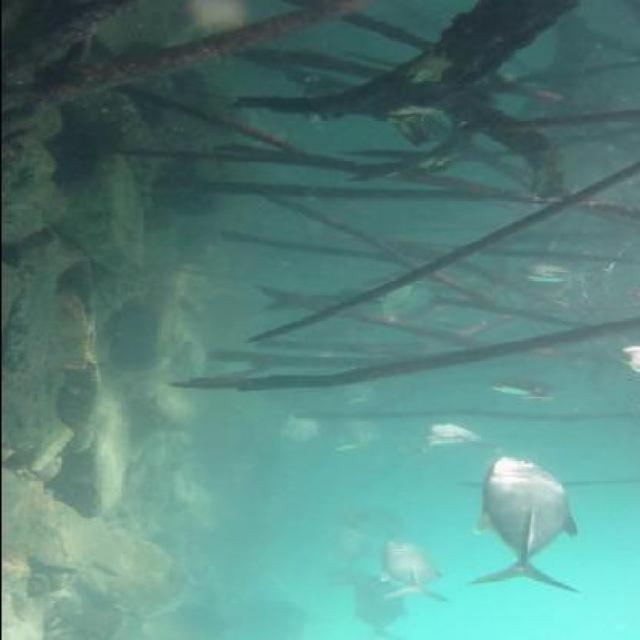Caranx_sexfasciatus_juvenile: (468, 453, 590, 592), (381, 539, 448, 603), (373, 278, 456, 322), (352, 575, 410, 636), (502, 251, 600, 287), (410, 414, 498, 452), (313, 529, 384, 576), (486, 370, 572, 407), (326, 372, 397, 414), (325, 410, 381, 452), (264, 406, 325, 442), (356, 502, 410, 540)
